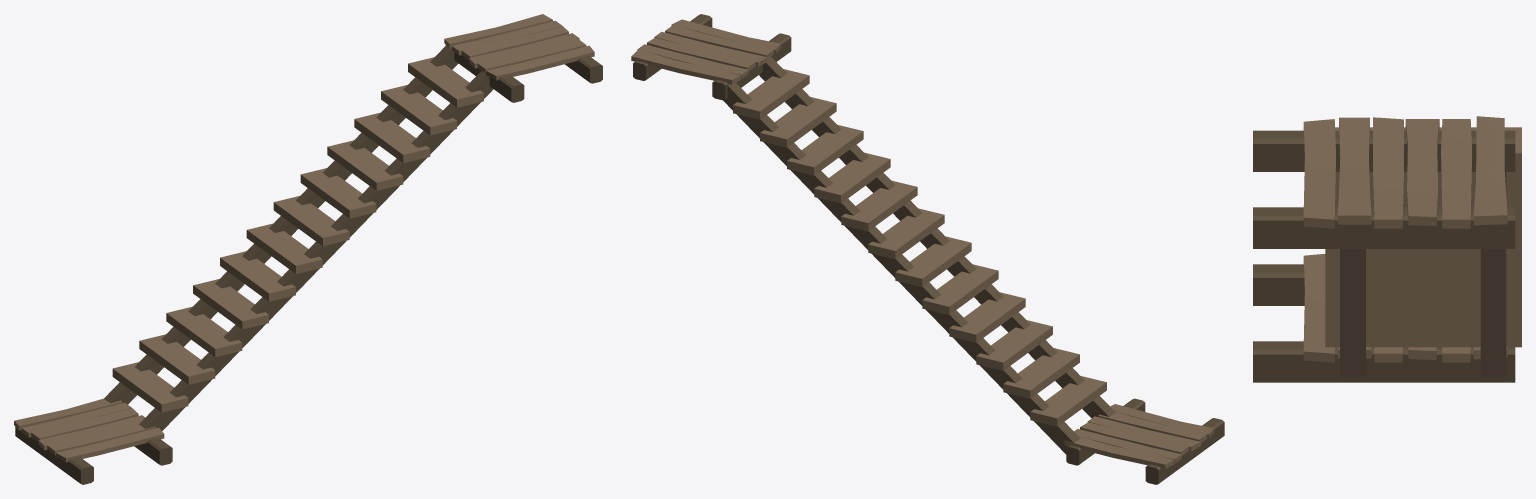
The model's file is castle_wood_stairs_a.FBX.
3 renders of one model, left to right at view 1: azimuth 30°, elevation 25°; view 2: azimuth 150°, elevation 25°; view 3: azimuth 270°, elevation 25°, orthographic. The views are drawn at different scales.
Visible parts, largest first — view 1: castle_wood_stairs_a; view 2: castle_wood_stairs_a; view 3: castle_wood_stairs_a.
Boxes of the visible parts, bbox=[...] form: castle_wood_stairs_a: bbox=[14, 14, 602, 484]; castle_wood_stairs_a: bbox=[631, 14, 1224, 484]; castle_wood_stairs_a: bbox=[1253, 116, 1521, 382].
Size of the model in its own units: 13.61 by 7.21 by 2.96.
